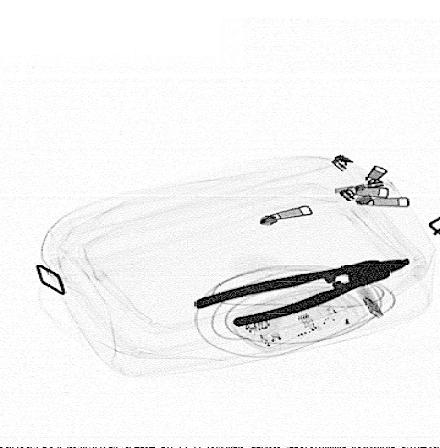Pliers: (189, 255, 413, 330)
